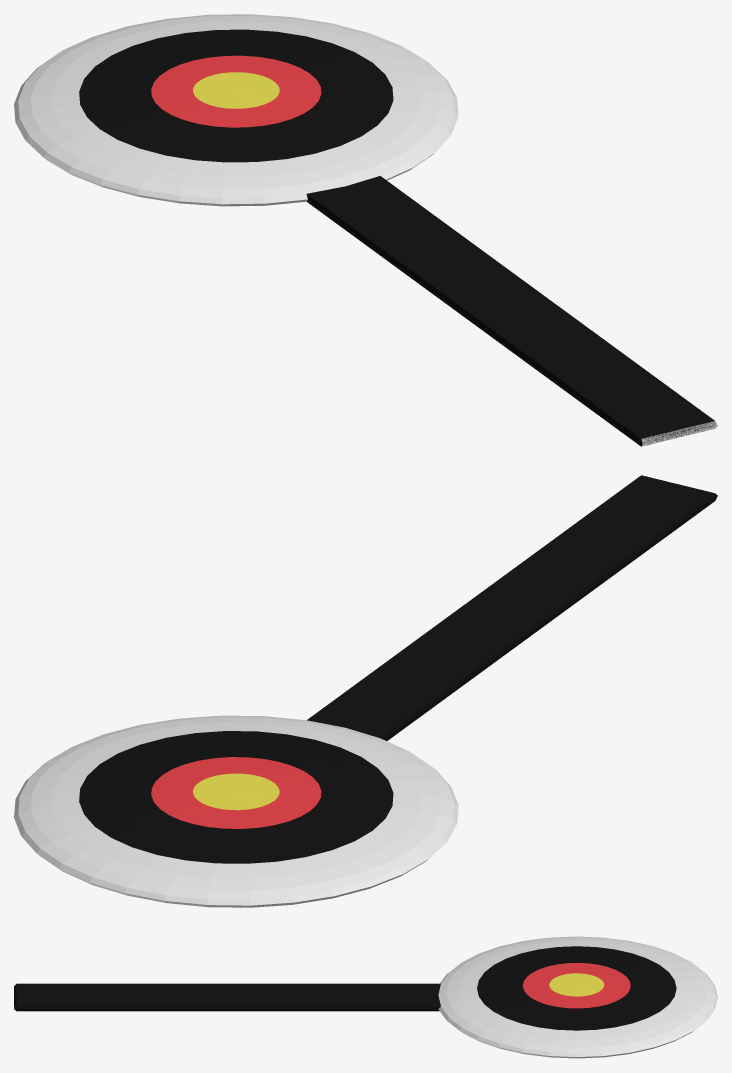
The model's file is shooting _range_target 1.fbx.
The picture shows the model from 3 angles, top to bottom: view 1: azimuth 30°, elevation 25°; view 2: azimuth 150°, elevation 25°; view 3: azimuth 270°, elevation 25°; orthographic projection. The views are drawn at different scales.
Parts seen in each view (by area): view 1: Sphere; view 2: Sphere; view 3: Sphere.
Part boxes in pixels (left/top/right/bottom): Sphere: left=14, top=14, right=717, bottom=446; Sphere: left=14, top=475, right=717, bottom=907; Sphere: left=14, top=936, right=717, bottom=1058.
Bounding box in the file's own units: 200 × 20 × 499.
